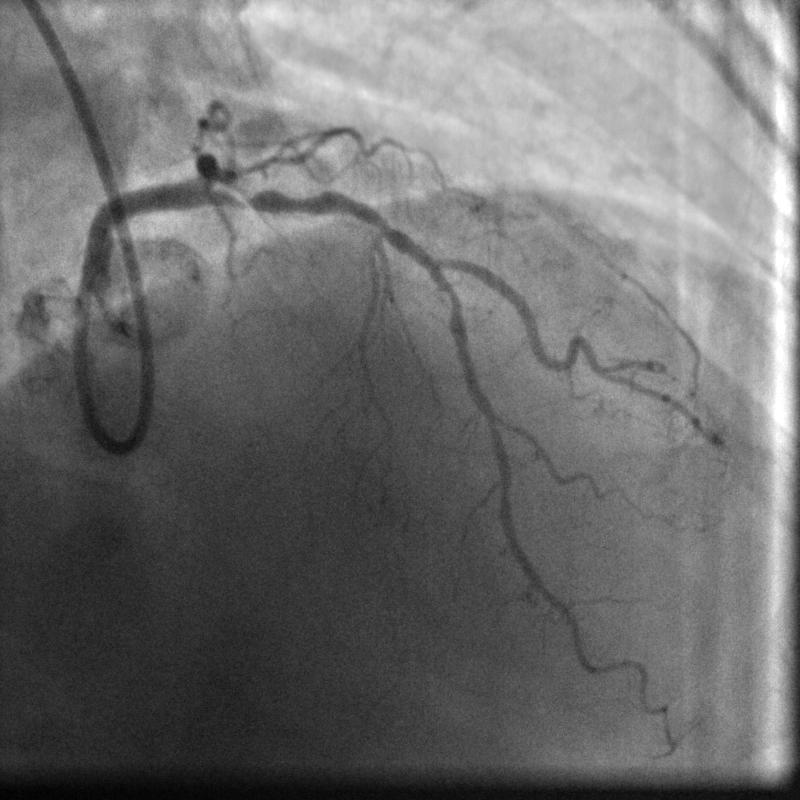Stenosis: (222, 174, 328, 208)
